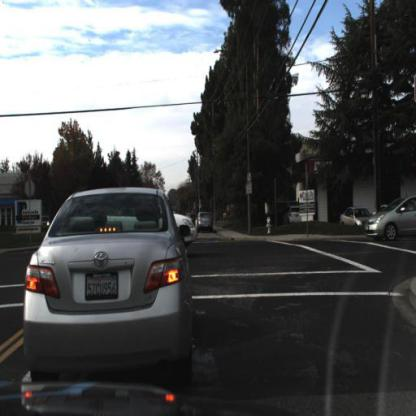car: (20, 188, 194, 391), (364, 198, 416, 244), (168, 195, 197, 245), (340, 204, 375, 231), (282, 201, 307, 229)
